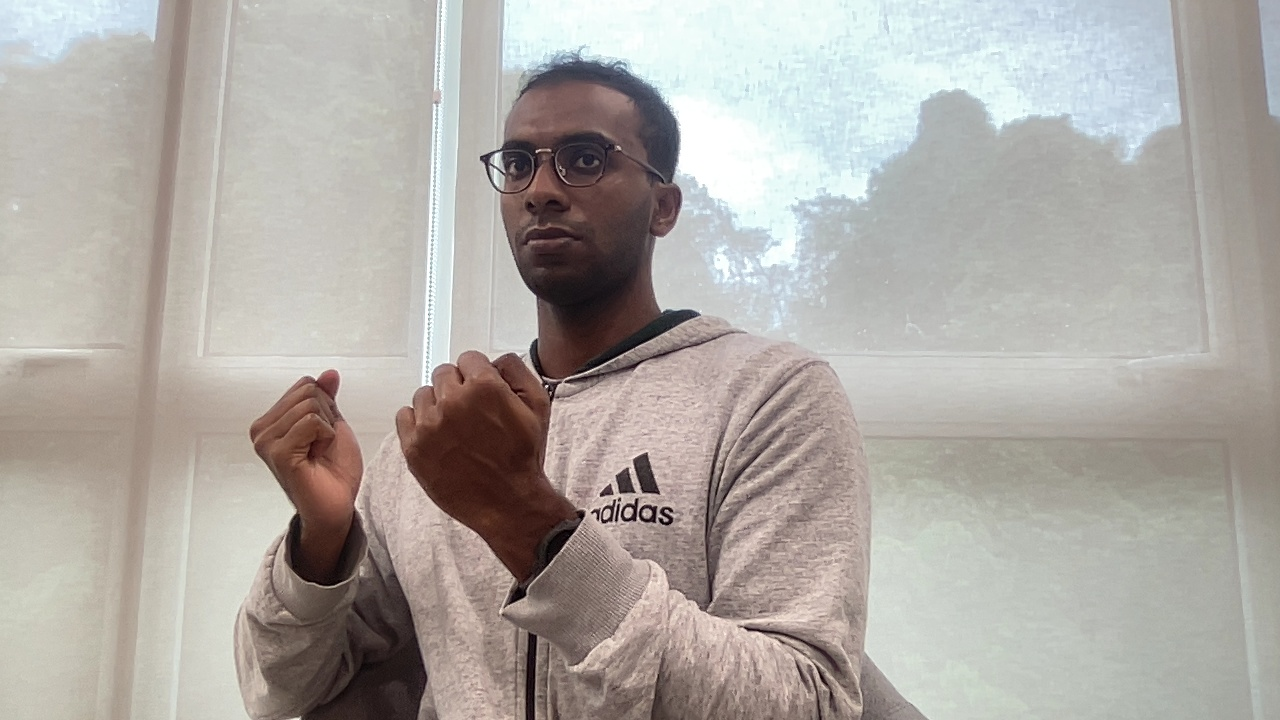finish: (244, 346, 563, 570)
